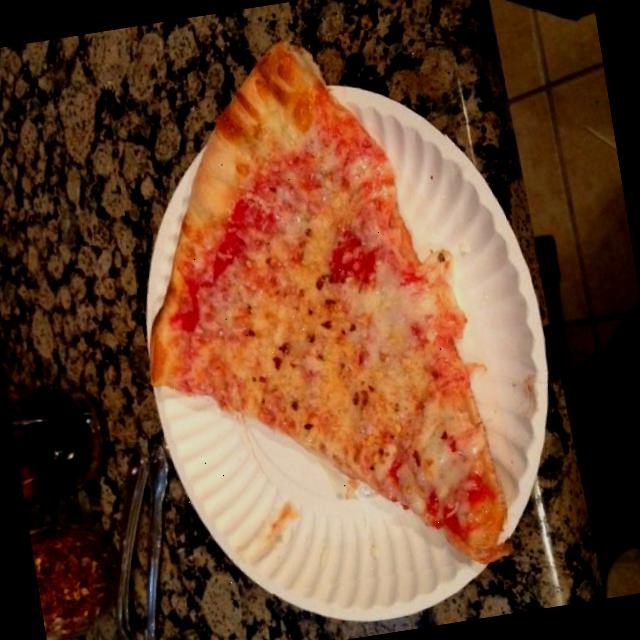pizza: (152, 41, 510, 560)
